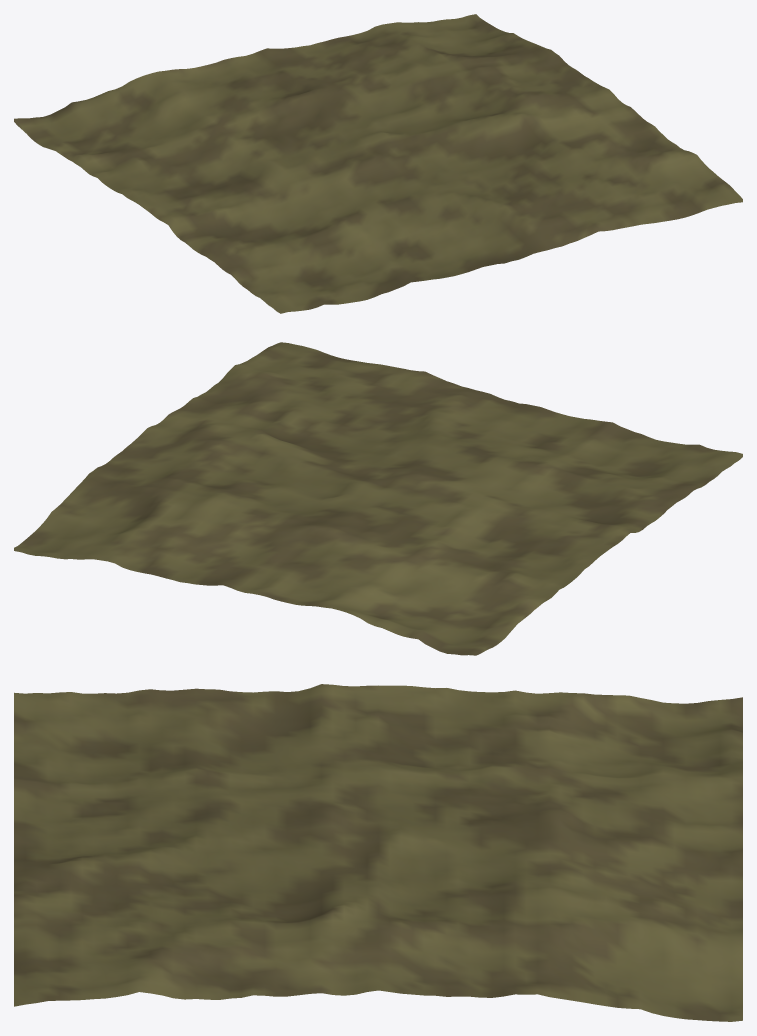
File: land_f_02_00.glb
3 views of the same model, one above another, from view 1: azimuth 30°, elevation 25°; view 2: azimuth 150°, elevation 25°; view 3: azimuth 270°, elevation 25° (orthographic). The views are drawn at different scales.
Visible parts, largest first — view 1: land_f_02_00; view 2: land_f_02_00; view 3: land_f_02_00.
Part boxes in pixels (left/top/right/bottom): land_f_02_00: left=14, top=14, right=742, bottom=313; land_f_02_00: left=14, top=342, right=742, bottom=655; land_f_02_00: left=14, top=684, right=742, bottom=1021.
Size of the model in its own units: 3840 by 279 by 3840.
